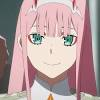zeroTwo: (13, 1, 92, 80)
